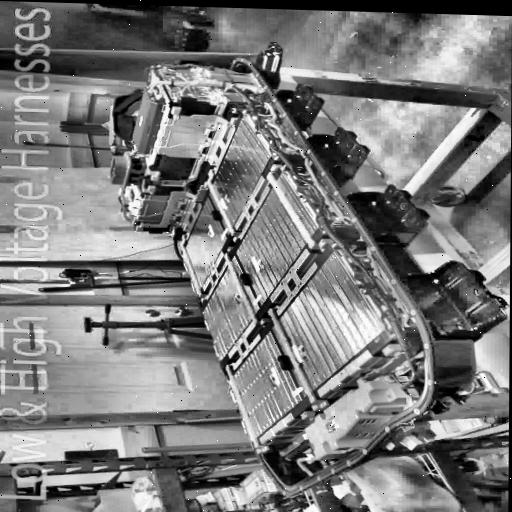battery_module: (271, 251, 387, 397), (235, 173, 317, 305), (228, 329, 302, 441), (208, 116, 271, 235), (201, 254, 260, 360), (182, 196, 228, 291)
bms_unit: (129, 85, 171, 155)
busbar: (265, 303, 329, 411), (264, 162, 333, 253), (223, 360, 269, 453), (224, 245, 269, 326), (135, 182, 208, 231), (205, 168, 241, 242), (178, 234, 209, 303), (168, 104, 239, 128)
connector: (103, 151, 143, 189)
